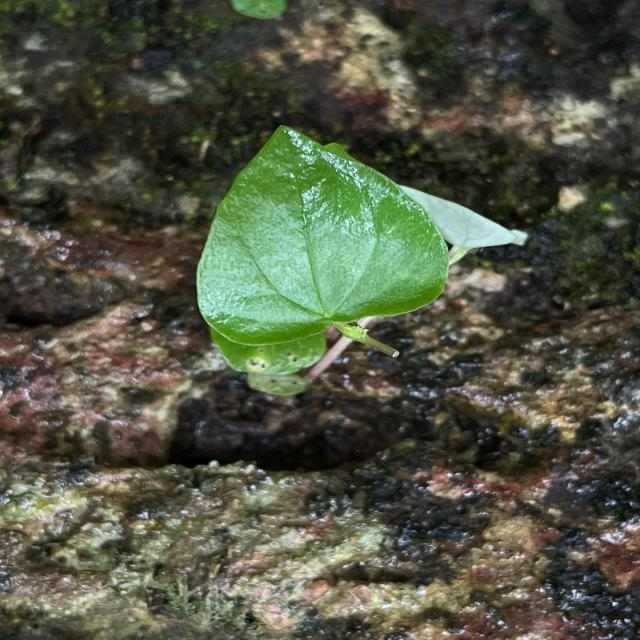Peperomia pellucida: (191, 122, 451, 348)
